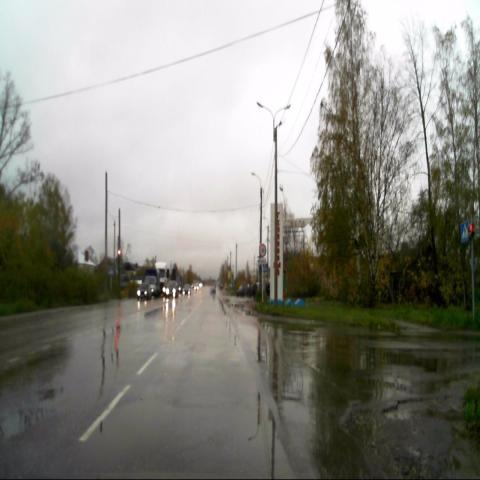5_19_1: (458, 217, 470, 242)
